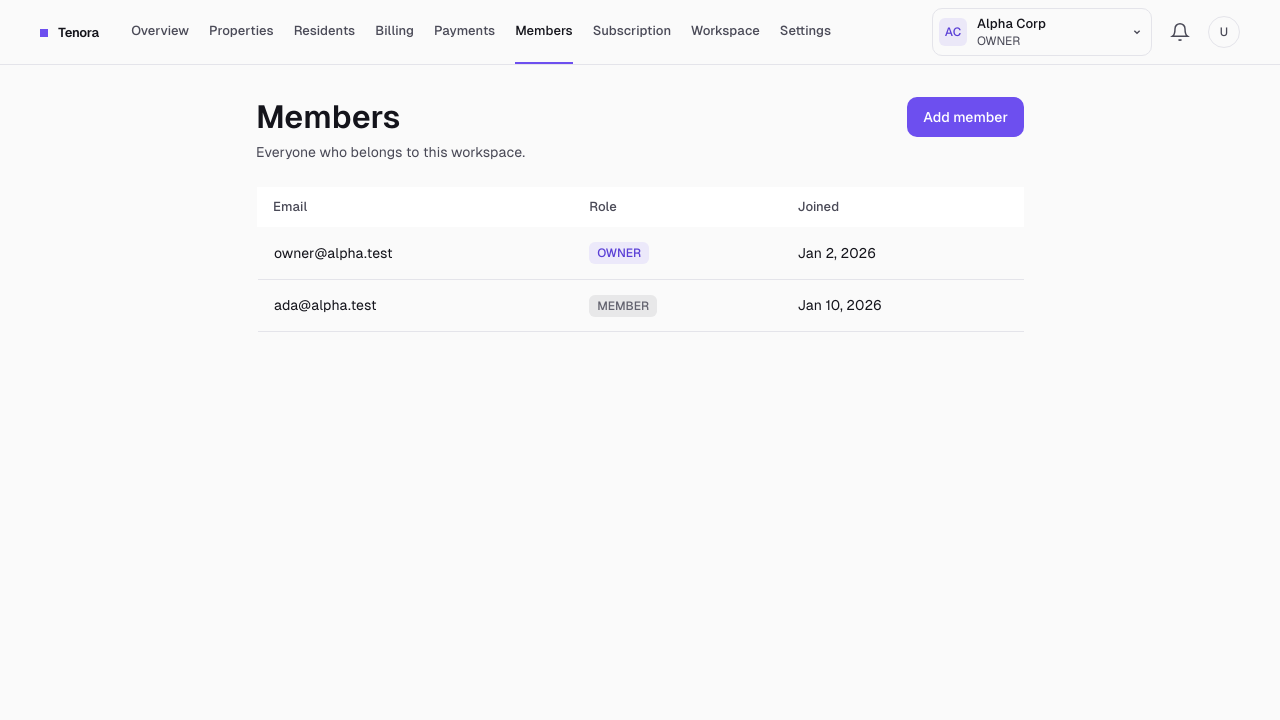
it: MembersPage — add member › adds a member, closes the modal, and the new member appears
This screenshot has width=1280, height=720.
Click the button "Add member" at point(966, 117), box [907,97,1024,137]
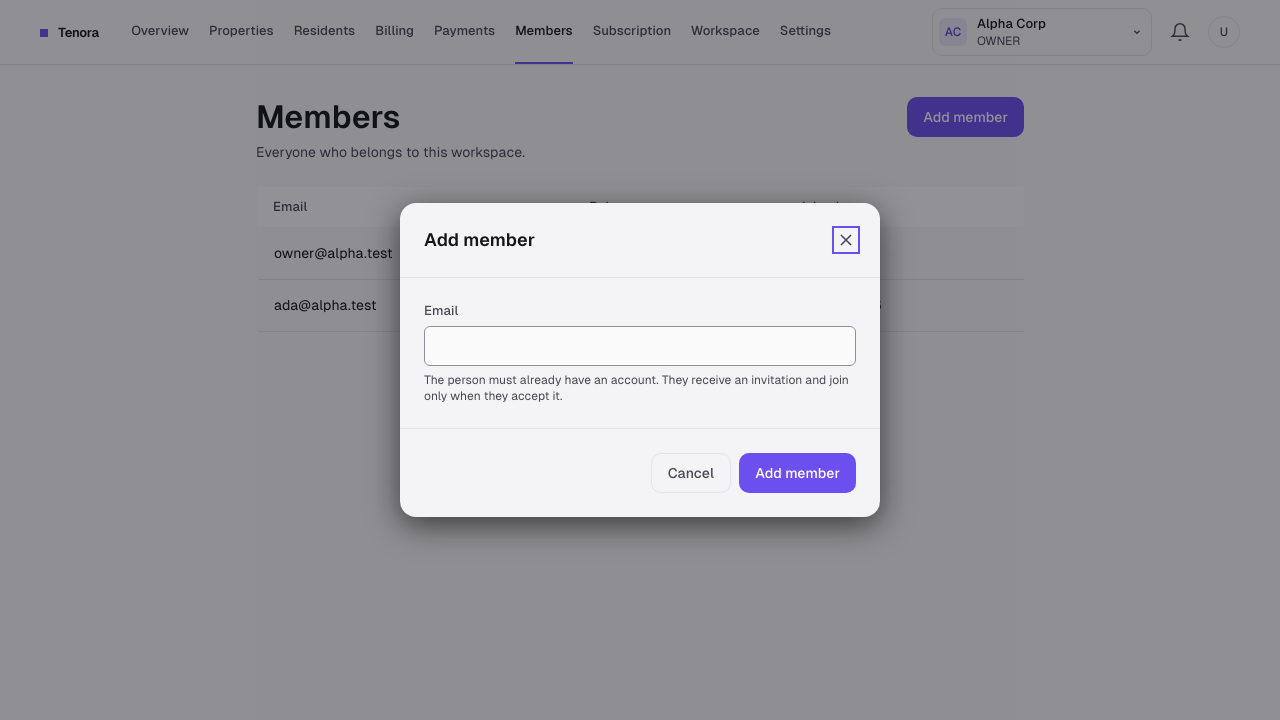
Type "new@alpha.test" into the field labelled "Email" at point(640, 346), box [424,326,856,366]
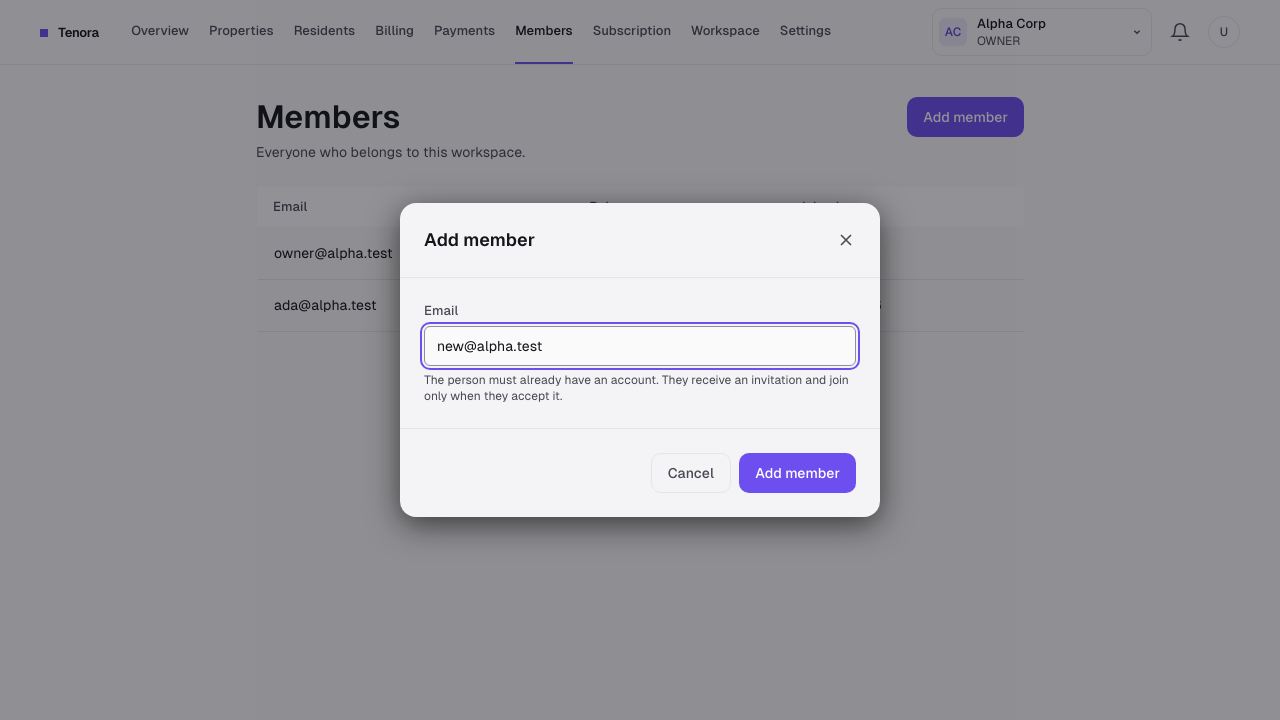
Click the button "Add member" at point(798, 473), box [739,453,856,493]
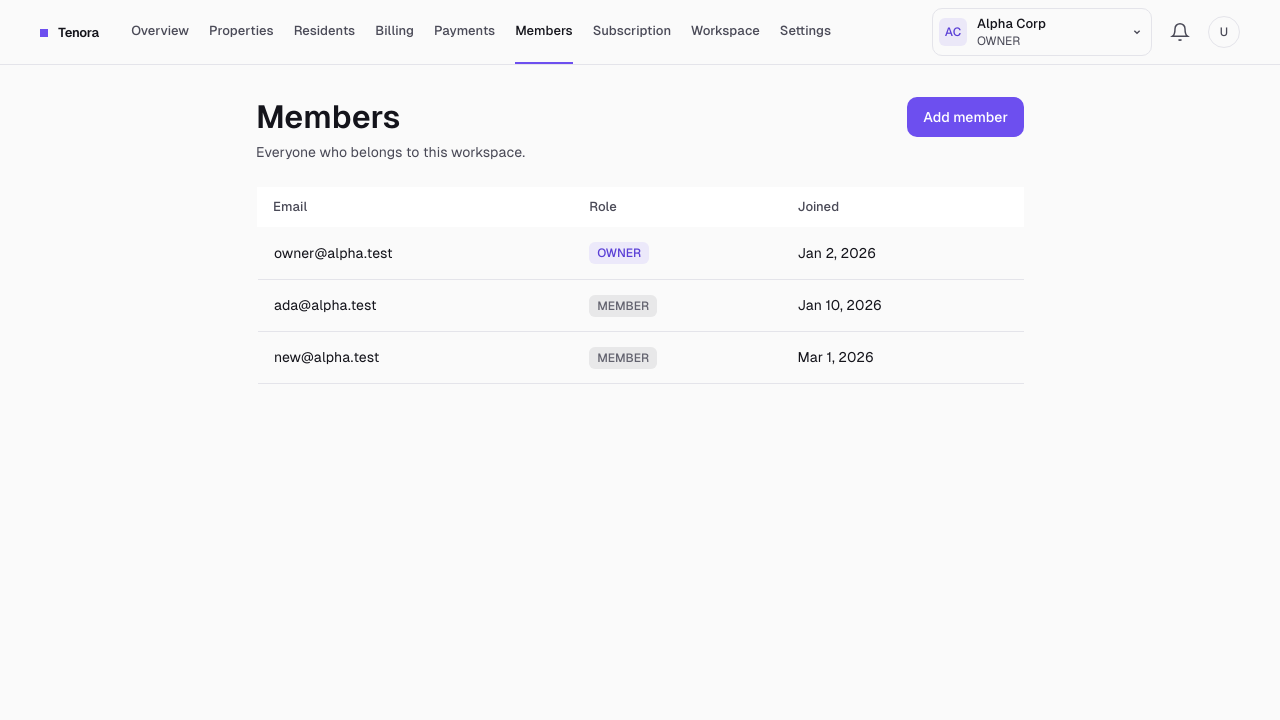
Expected: the dialog is gone
Expected: the text "new@alpha.test" is shown, [274,349,379,365]
